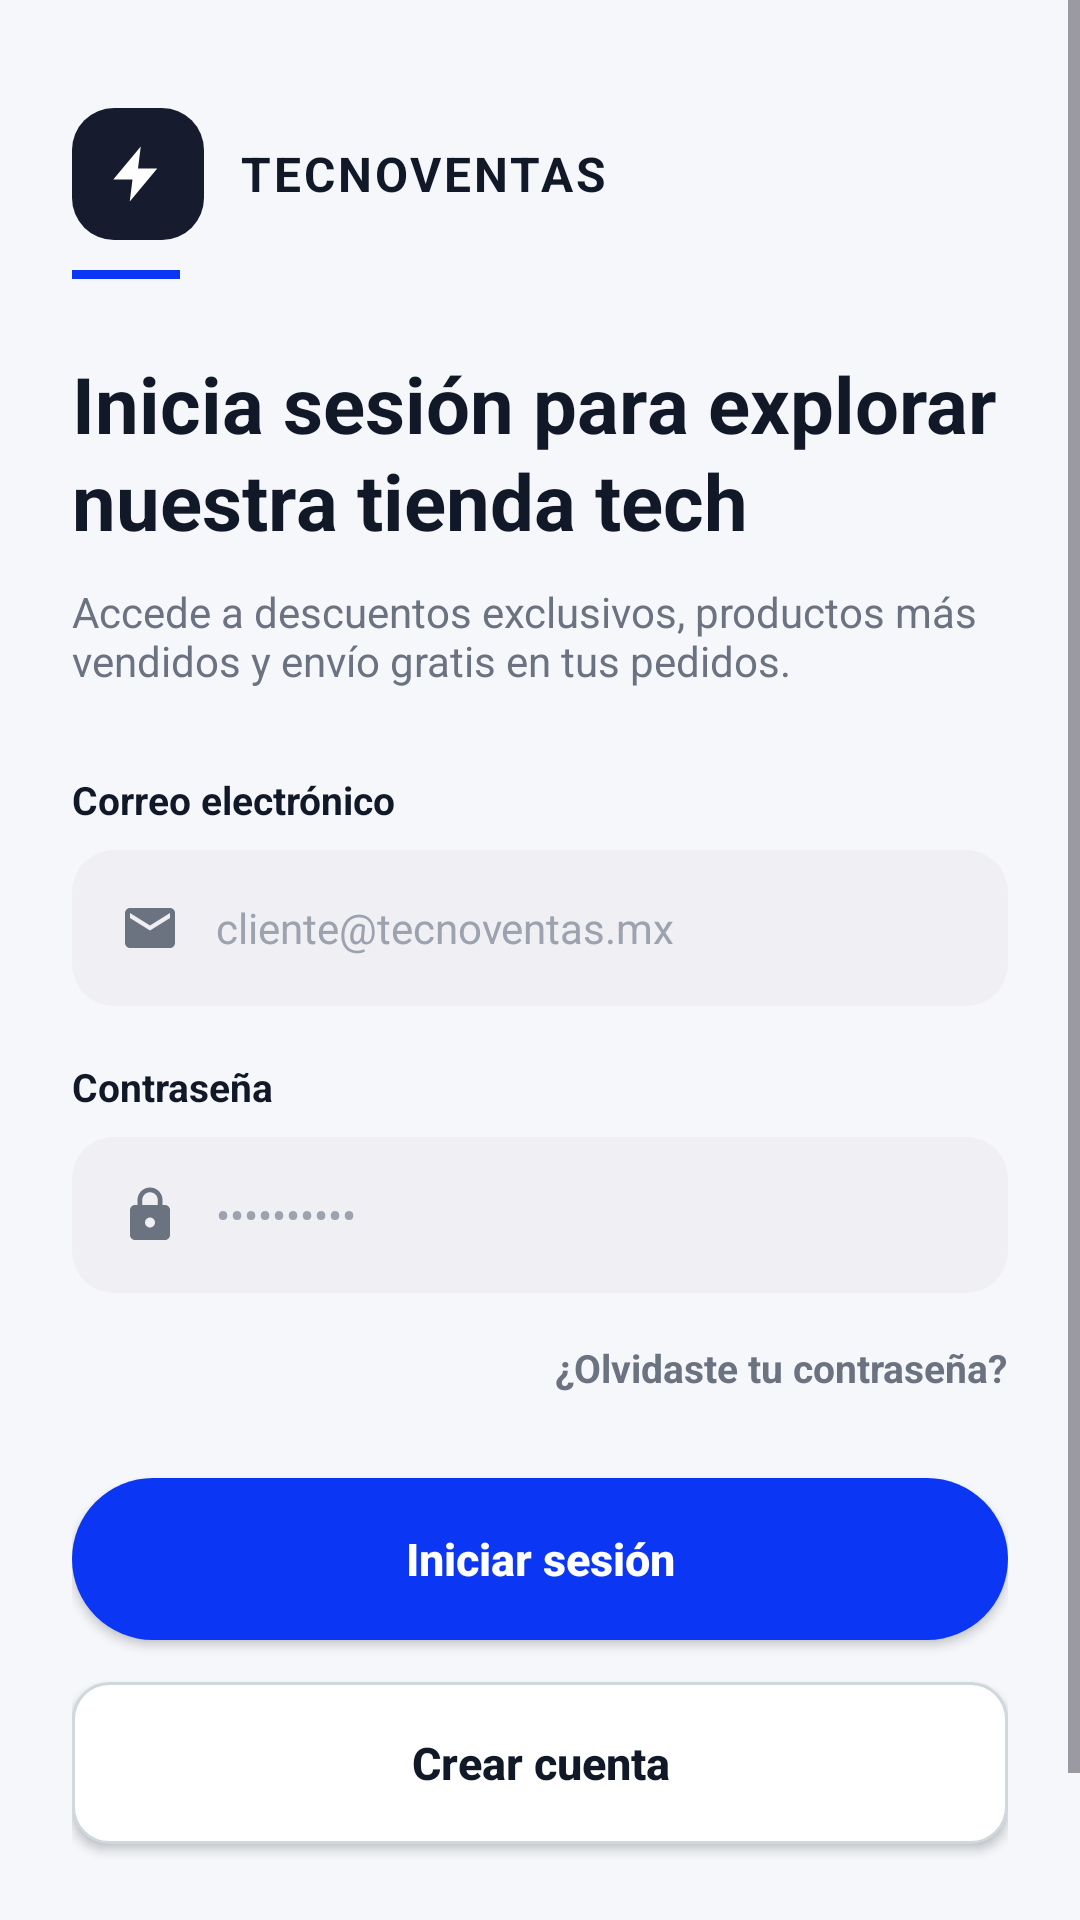

Icons on this 1080px×1920px Android screen, each with the point to tap as [x,y]:
bolt: [135,174]
